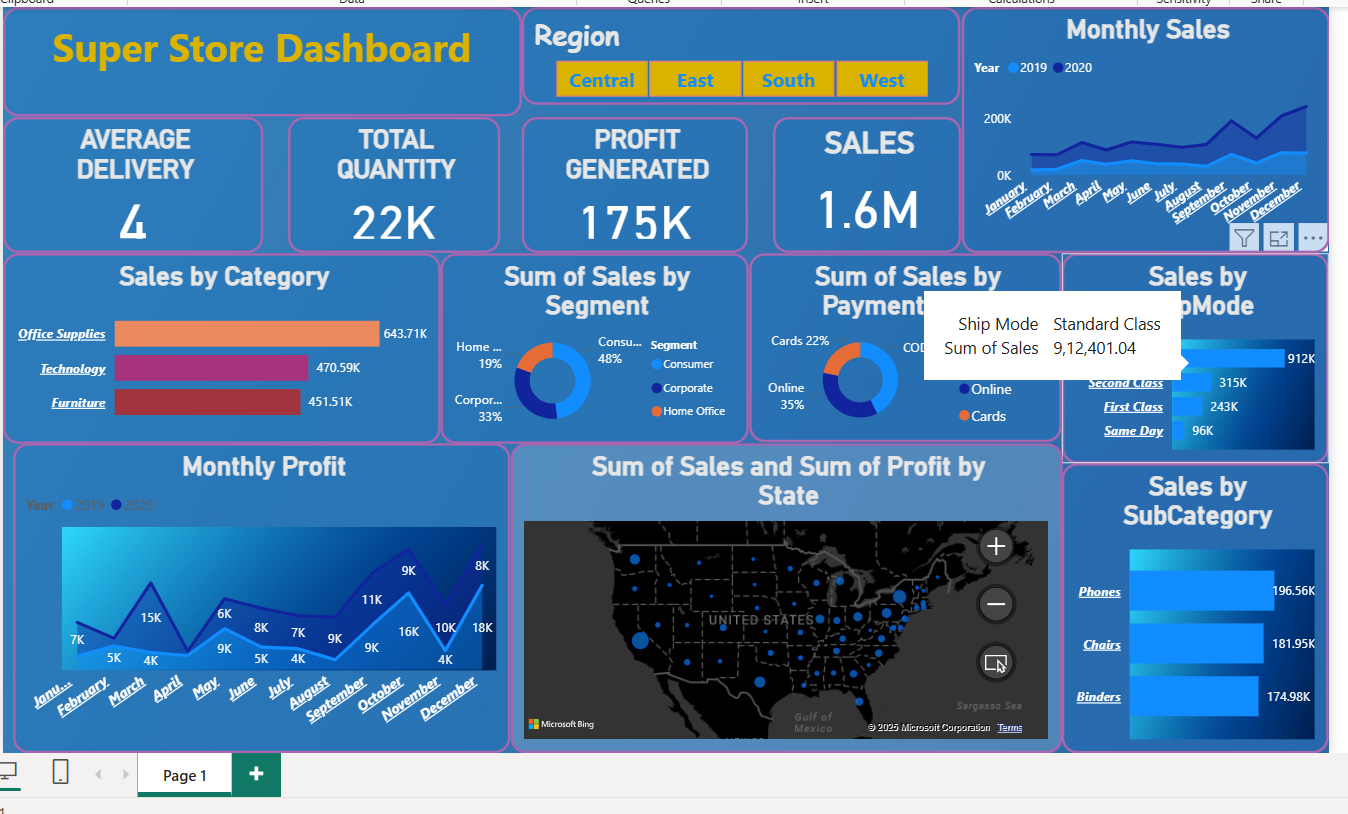

This screenshot's page, from the dashboard's own definition file:
{"tool":"powerbi","page":{"name":"Page 1","canvas":[1280,720],"ordinal":0},"visuals":[{"type":"clusteredBarChart","title":"Sales by Category","fields":{"Category":["SuperStore_Sales_Dataset.Category"],"Y":["Sum(SuperStore_Sales_Dataset.Sales)"]},"box":[0,237.4,422.6,183.9],"z":0},{"type":"clusteredBarChart","title":"Sales by SubCategory","fields":{"Category":["SuperStore_Sales_Dataset.Sub-Category"],"Y":["Sum(SuperStore_Sales_Dataset.Sales)"]},"box":[1022.3,440.5,258,279.9],"z":1000},{"type":"clusteredBarChart","title":"Sales by ShipMode","fields":{"Category":["SuperStore_Sales_Dataset.Ship Mode"],"Y":["Sum(SuperStore_Sales_Dataset.Sales)"]},"box":[1022.3,237.4,258,203.1],"z":2000},{"type":"stackedAreaChart","title":"Monthly Sales ","fields":{"Series":["SuperStore_Sales_Dataset.Order Date.Variation.Date Hierarchy.Year"],"Y":["Sum(SuperStore_Sales_Dataset.Sales)"],"Category":["SuperStore_Sales_Dataset.Order Date.Variation.Date Hierarchy.Month"]},"box":[924.9,0,355.4,237.4],"z":3000},{"type":"stackedAreaChart","title":"Monthly Profit","fields":{"Series":["SuperStore_Sales_Dataset.Order Date.Variation.Date Hierarchy.Year"],"Category":["SuperStore_Sales_Dataset.Order Date.Variation.Date Hierarchy.Month"],"Y":["Sum(SuperStore_Sales_Dataset.Profit)"]},"box":[9.6,421.3,480.3,299.1],"z":4000},{"type":"map","fields":{"Category":["SuperStore_Sales_Dataset.State"],"Size":["Sum(SuperStore_Sales_Dataset.Sales)"]},"box":[489.9,421.3,532.4,299.1],"z":5000},{"type":"donutChart","fields":{"Category":["SuperStore_Sales_Dataset.Segment"],"Y":["Sum(SuperStore_Sales_Dataset.Sales)"]},"box":[422.6,237.4,297.8,183.9],"z":6000},{"type":"donutChart","fields":{"Category":["SuperStore_Sales_Dataset.Payment Mode"],"Y":["Sum(SuperStore_Sales_Dataset.Sales)"]},"box":[720.4,237.4,301.9,182.5],"z":7000},{"type":"slicer","title":"Region","fields":{"Values":["SuperStore_Sales_Dataset.Region"]},"box":[501.2,0,423.3,94.2],"z":8000},{"type":"textbox","box":[0,0,501.2,105.8],"z":9000},{"type":"card","title":"SALES","fields":{"Values":["Sum(SuperStore_Sales_Dataset.Sales)"]},"box":[743,105.8,181.4,131.4],"z":10000},{"type":"card","title":"PROFIT GENERATED","fields":{"Values":["Sum(SuperStore_Sales_Dataset.Profit)"]},"box":[501.2,105.8,218.6,131.4],"z":11000},{"type":"card","title":"TOTAL QUANTITY","fields":{"Values":["Sum(SuperStore_Sales_Dataset.Quantity)"]},"box":[275.6,105.8,204.7,131.4],"z":12000},{"type":"card","title":"AVERAGE DELIVERY","fields":{"Values":["Avg(SuperStore_Sales_Dataset.AvgDelivery)"]},"box":[0,105.8,251.2,131.4],"z":13000}]}

Visuals, with their boxes in screenshot pixels (x1, y1, x2, y2):
"Sales by Category" clusteredBarChart: (0,250,435,441)
"Sales by SubCategory" clusteredBarChart: (1058,461,1326,752)
"Sales by ShipMode" clusteredBarChart: (1058,250,1326,461)
"Monthly Sales " stackedAreaChart: (957,4,1326,250)
"Monthly Profit" stackedAreaChart: (6,441,505,752)
map - SuperStore_Sales_Dataset.State x Sum(SuperStore_Sales_Dataset.Sales): (505,441,1058,752)
donutChart - SuperStore_Sales_Dataset.Segment x Sum(SuperStore_Sales_Dataset.Sales): (435,250,745,441)
donutChart - SuperStore_Sales_Dataset.Payment Mode x Sum(SuperStore_Sales_Dataset.Sales): (745,250,1058,440)
"Region" slicer: (517,4,957,101)
textbox: (0,4,517,113)
"SALES" card: (768,113,957,250)
"PROFIT GENERATED" card: (517,113,744,250)
"TOTAL QUANTITY" card: (283,113,495,250)
"AVERAGE DELIVERY" card: (0,113,257,250)
